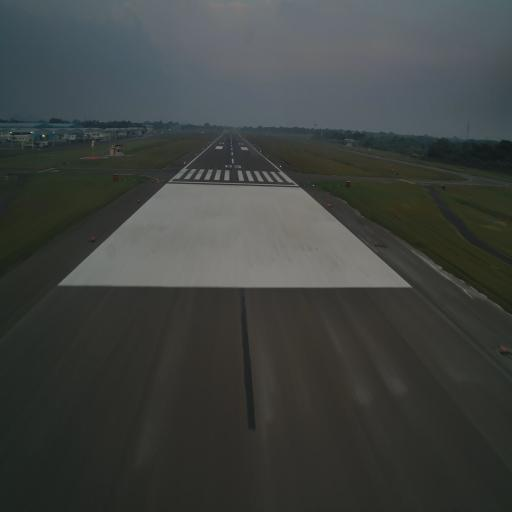on: (499, 342, 508, 358), (374, 238, 378, 245), (137, 197, 140, 203), (92, 236, 94, 242), (328, 203, 330, 207)
